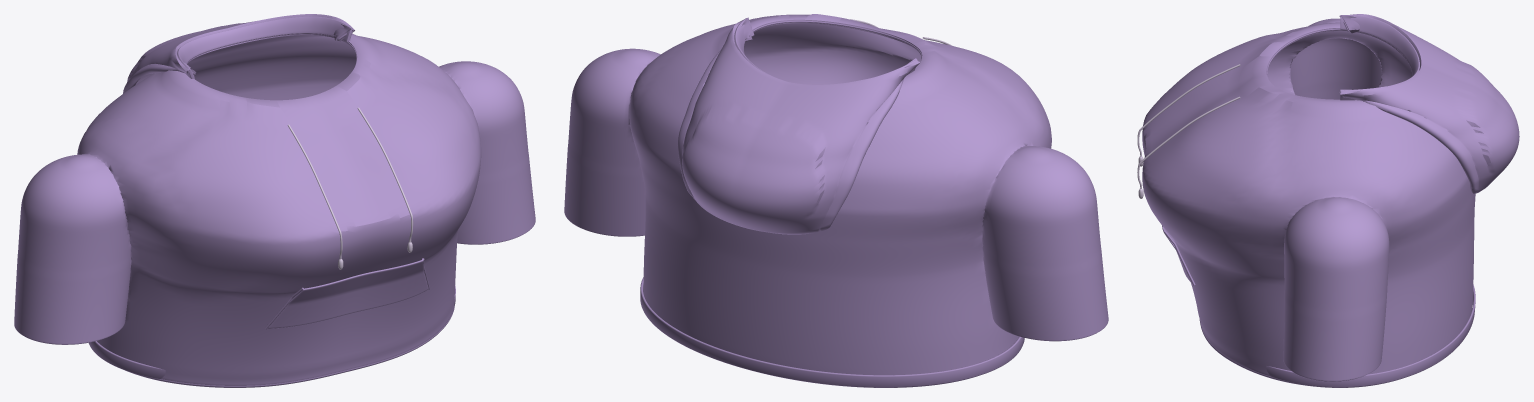
File: Feminine-sweatshirt-top.glb
The picture shows the model from 3 angles, left to right: view 1: azimuth 30°, elevation 25°; view 2: azimuth 150°, elevation 25°; view 3: azimuth 270°, elevation 25°; orthographic projection. The views are drawn at different scales.
Parts seen in each view (by area): view 1: Clothing / joined sweatshirt186, Hoodie / kangaroo pocket, Hoodie / seated rear fold187, Hoodie / resting hood, Hoodie / ribbed hem, Shirt / seated hem export; view 2: Clothing / joined sweatshirt186, Hoodie / resting hood, Hoodie / ribbed hem; view 3: Clothing / joined sweatshirt186, Hoodie / resting hood, Hoodie / ribbed hem, Hoodie / seated rear fold187, Hoodie / drawcord -1 export, Hoodie / drawcord 1 export.
Boxes of the visible parts, left/top/right/bottom form: Clothing / joined sweatshirt186: left=14, top=34, right=535, bottom=385; Hoodie / kangaroo pocket: left=267, top=260, right=428, bottom=328; Hoodie / seated rear fold187: left=177, top=16, right=353, bottom=79; Hoodie / resting hood: left=123, top=14, right=354, bottom=93; Hoodie / ribbed hem: left=88, top=285, right=455, bottom=378; Shirt / seated hem export: left=125, top=307, right=454, bottom=387; Clothing / joined sweatshirt186: left=564, top=14, right=1108, bottom=375; Hoodie / resting hood: left=677, top=17, right=920, bottom=234; Hoodie / ribbed hem: left=640, top=277, right=1024, bottom=387; Clothing / joined sweatshirt186: left=1142, top=18, right=1475, bottom=381; Hoodie / resting hood: left=1340, top=14, right=1519, bottom=193; Hoodie / ribbed hem: left=1266, top=284, right=1475, bottom=387; Hoodie / seated rear fold187: left=1340, top=15, right=1419, bottom=100; Hoodie / drawcord -1 export: left=1137, top=64, right=1240, bottom=156; Hoodie / drawcord 1 export: left=1137, top=96, right=1240, bottom=188.
Size of the model in its own units: 0.9625 by 0.4907 by 0.6567.
